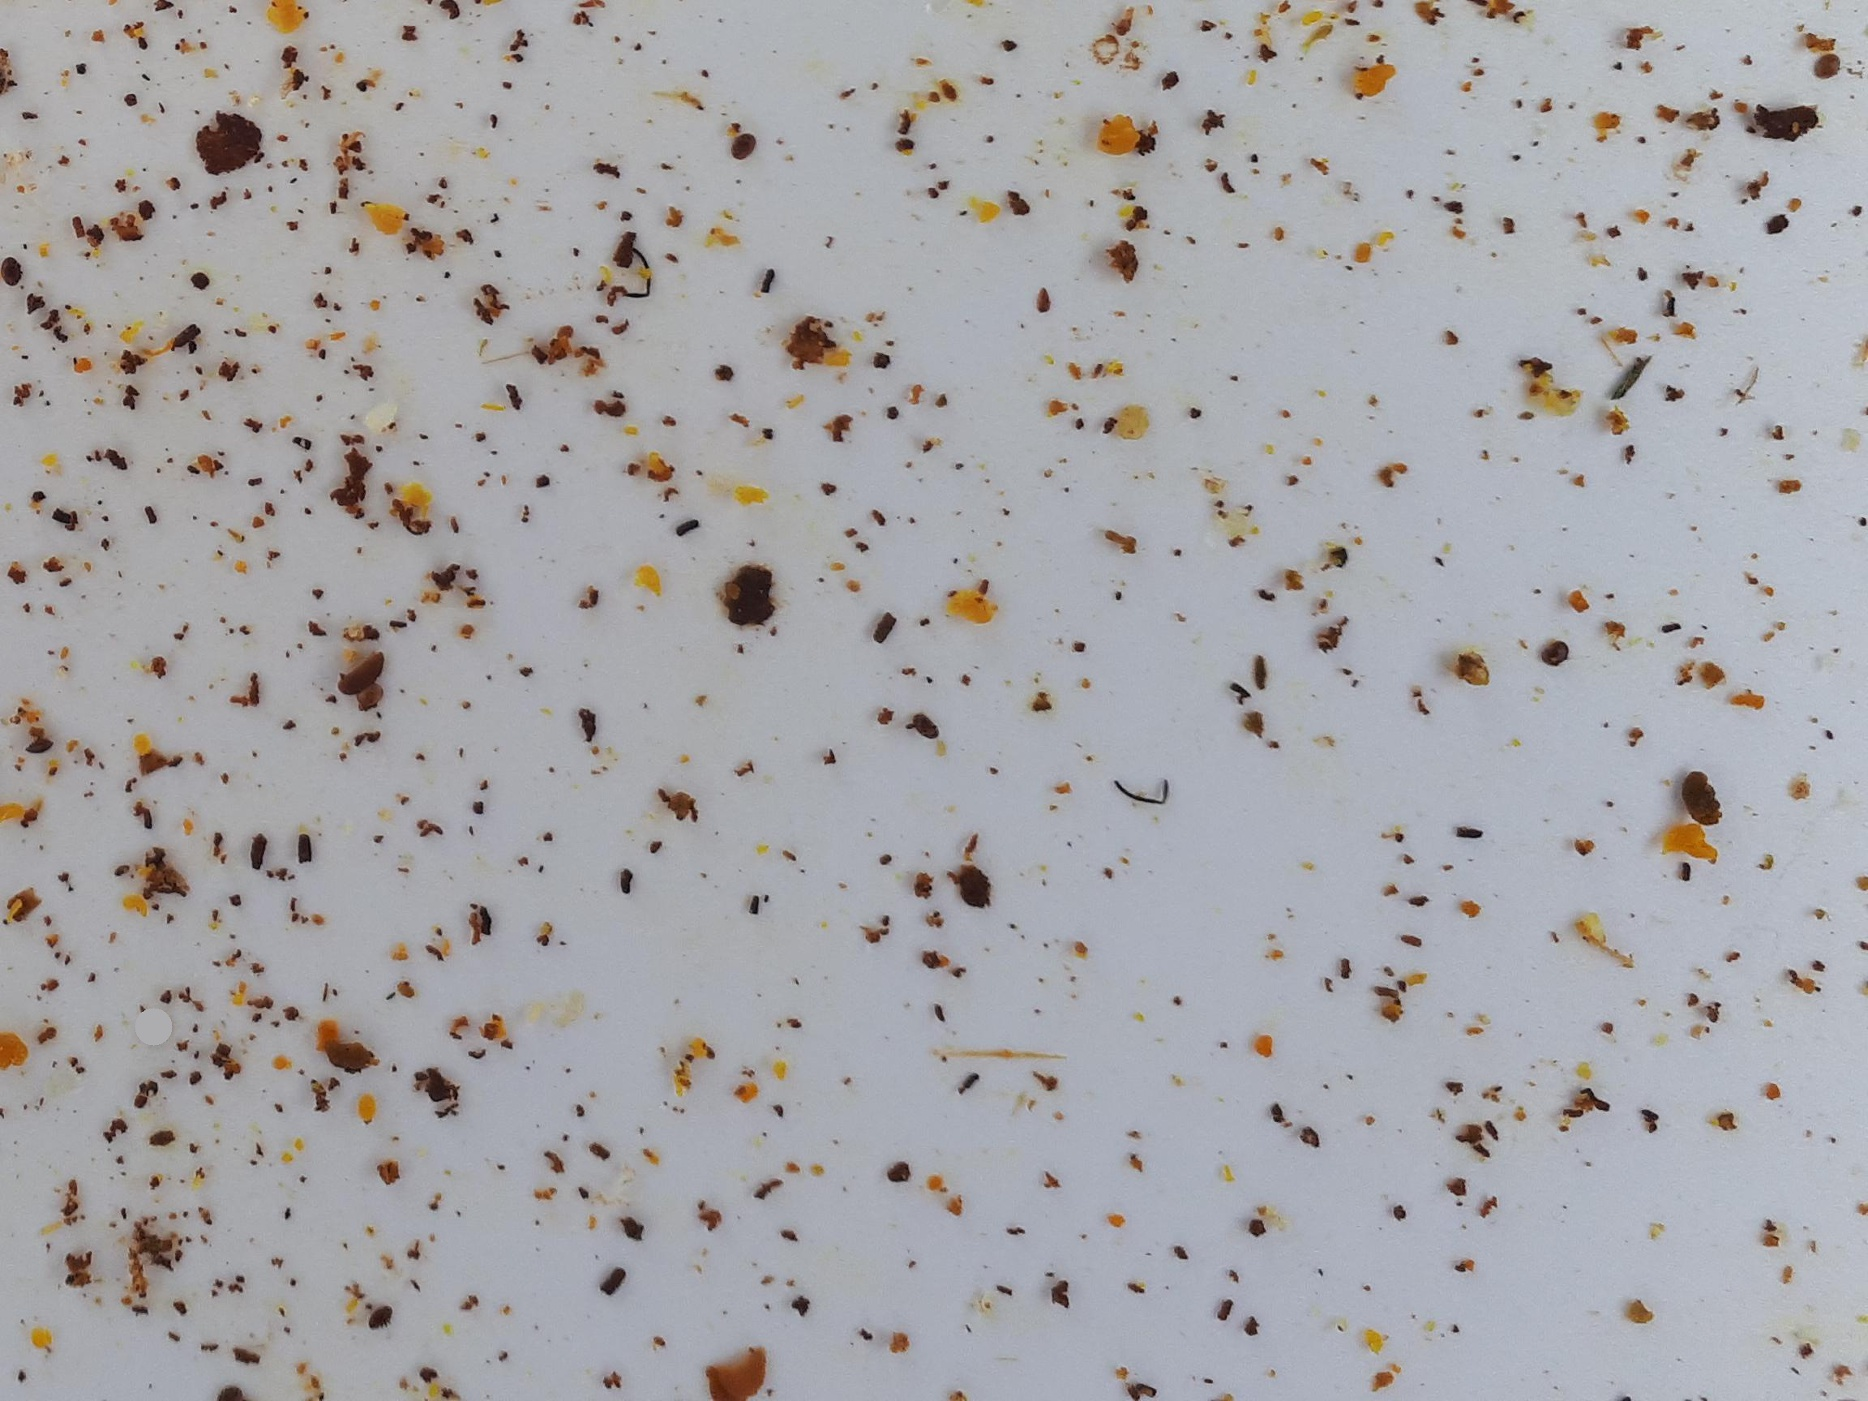Varroa: (1125, 125, 1163, 163), (19, 726, 57, 764), (419, 1074, 457, 1113), (910, 712, 940, 743), (1812, 54, 1842, 85), (727, 134, 756, 163), (1543, 639, 1571, 668), (362, 1304, 390, 1332)
